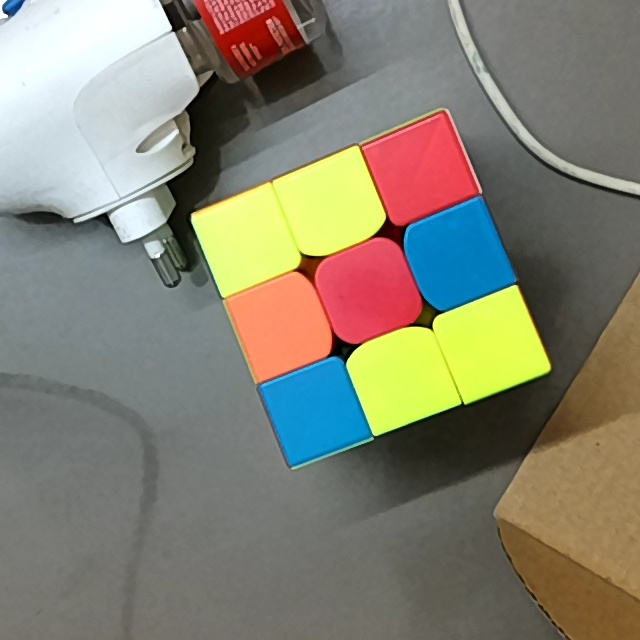tile: (331, 255, 404, 326), (365, 341, 438, 412), (252, 286, 312, 363), (423, 221, 491, 288), (458, 313, 525, 380), (283, 378, 351, 444), (391, 139, 453, 202), (215, 213, 279, 269), (305, 173, 362, 235)
